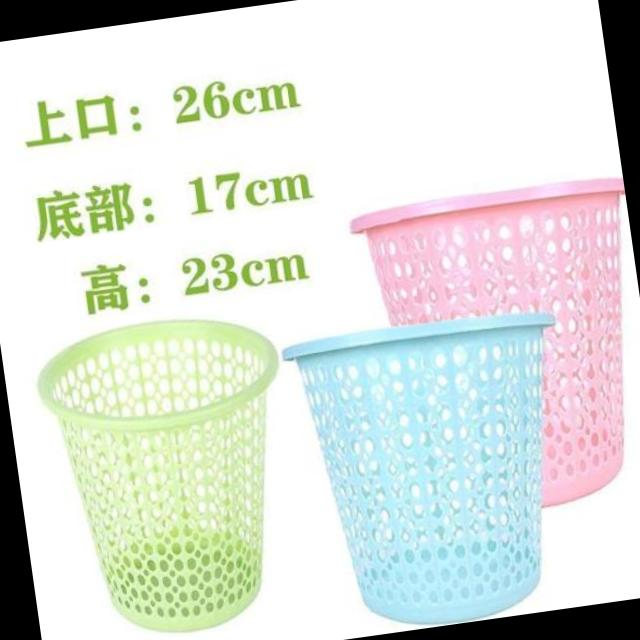dustbin: (274, 298, 596, 640), (339, 168, 640, 530), (23, 299, 318, 640)
